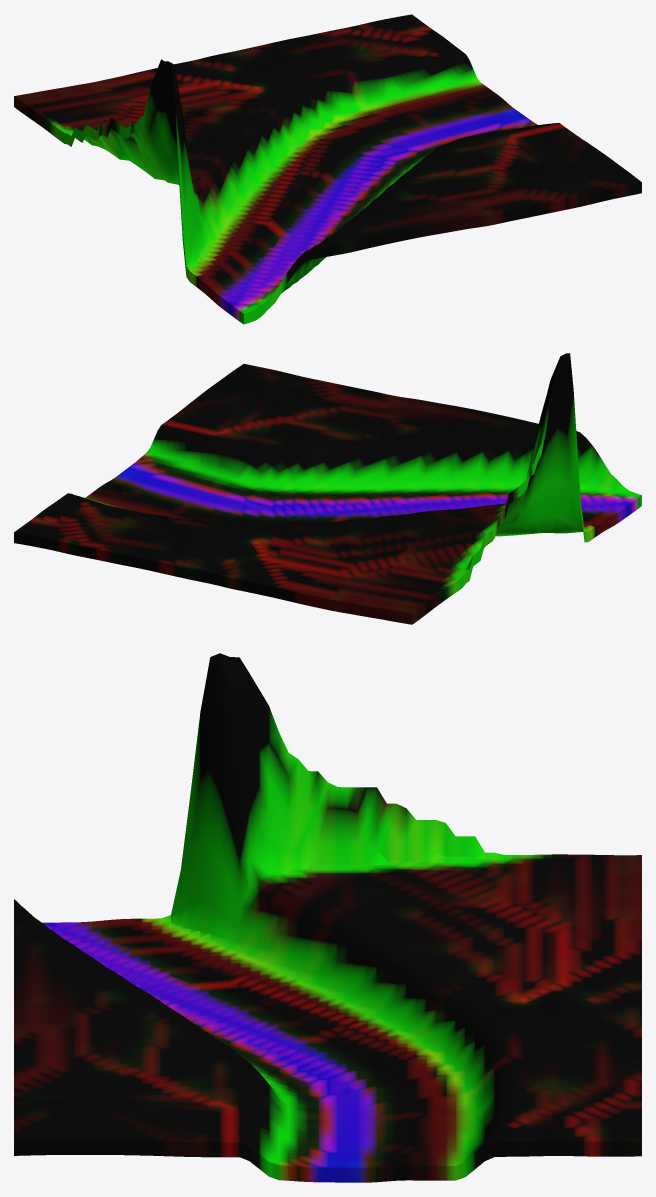
File: Terrain_04_06.fbx
The picture shows the model from 3 angles, top to bottom: view 1: azimuth 30°, elevation 25°; view 2: azimuth 150°, elevation 25°; view 3: azimuth 270°, elevation 25°; orthographic projection. The views are drawn at different scales.
Visible parts, largest first — view 1: Terrain_04_06_LOD0; view 2: Terrain_04_06_LOD0; view 3: Terrain_04_06_LOD0.
Boxes of the visible parts, x1=… form: Terrain_04_06_LOD0: x1=14, y1=14, x2=641, y2=324; Terrain_04_06_LOD0: x1=14, y1=353, x2=641, y2=624; Terrain_04_06_LOD0: x1=14, y1=653, x2=641, y2=1182.
Size of what is drawn, in the model's own units: 384 by 192 by 384.
